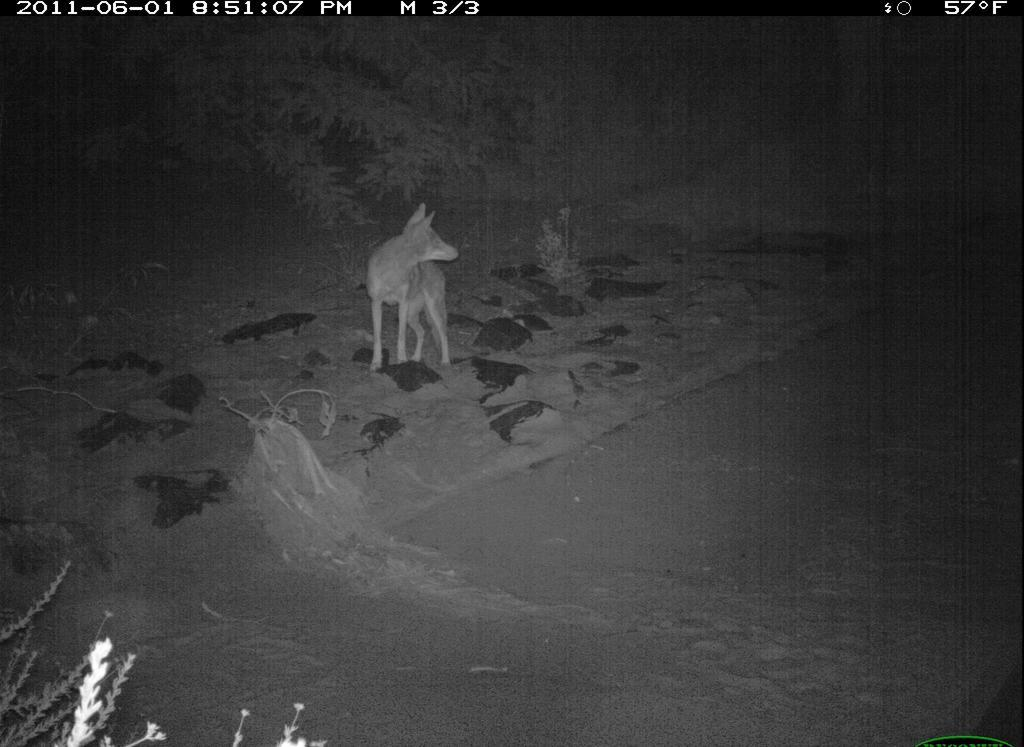coyote: (346, 197, 482, 396)
